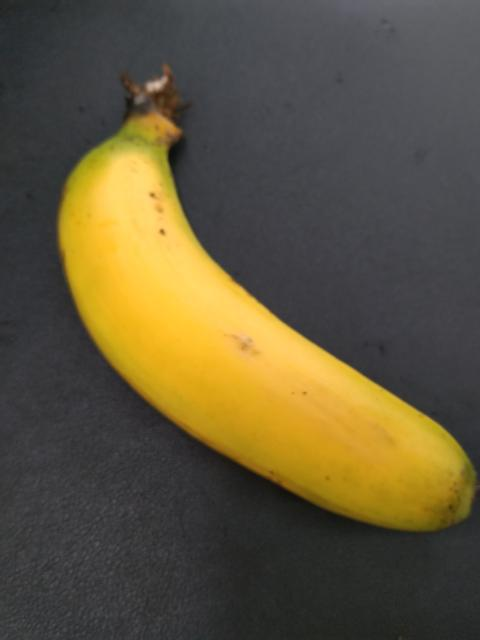freshripe: (59, 117, 469, 540)
